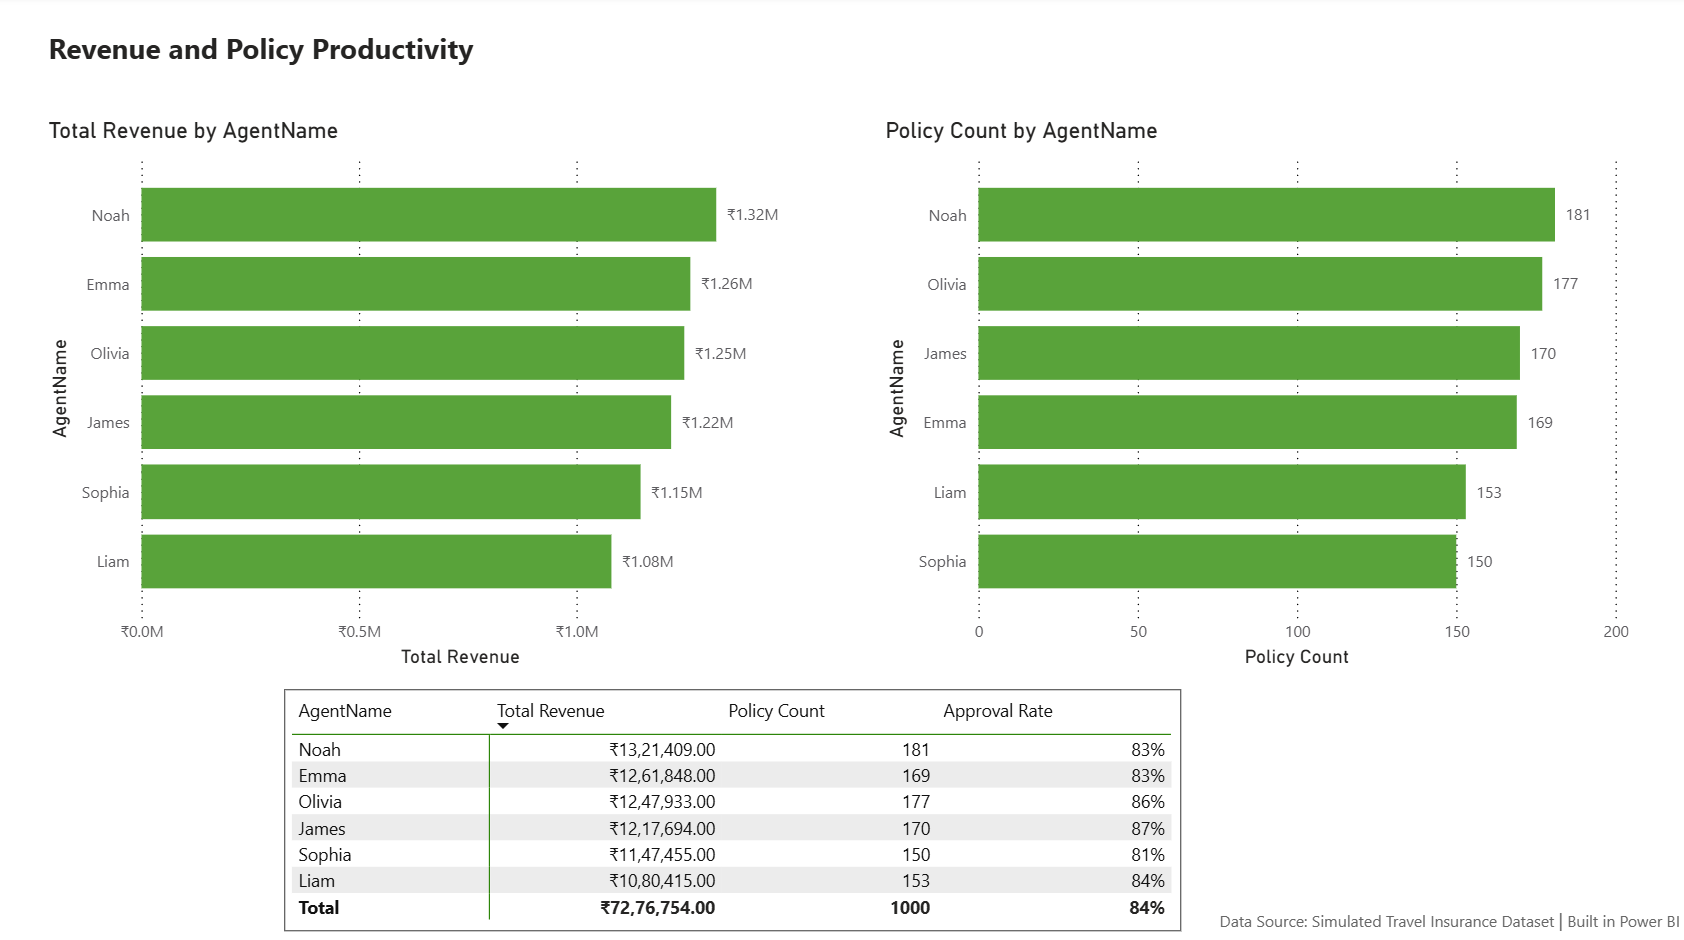

What the dashboard file says about the page in this screenshot:
{"tool":"powerbi","page":{"name":"Agent Performance","canvas":[1280,720],"ordinal":2},"visuals":[{"type":"barChart","fields":{"Category":["Policies.AgentName"],"Y":["Policies.Total Revenue"]},"box":[33.7,93.4,581.8,421.1],"z":0},{"type":"barChart","fields":{"Category":["Policies.AgentName"],"Y":["Policies.Policy Count"]},"box":[667.6,93.4,574.2,421.1],"z":1000},{"type":"pivotTable","fields":{"Rows":["Policies.AgentName"],"Values":["Policies.Total Revenue","Policies.Policy Count","Policies.Approval Rate"]},"box":[216.8,526.4,680.4,183.9],"z":2000},{"type":"textbox","box":[33.7,21.4,367.5,72],"z":3000},{"type":"textbox","box":[921.7,687.8,359.9,31.9],"z":4000}]}

Visuals, with their boxes in screenshot pixels (x1, y1, x2, y2), scaled from the page's 1280x720 canvas onto the 1684x940 screenshot:
barChart - Policies.AgentName x Policies.Total Revenue: <box>44,122,810,672</box>
barChart - Policies.AgentName x Policies.Policy Count: <box>878,122,1634,672</box>
pivotTable - Policies.AgentName x Policies.Total Revenue: <box>285,687,1180,927</box>
textbox: <box>44,28,528,122</box>
textbox: <box>1213,898,1683,939</box>
